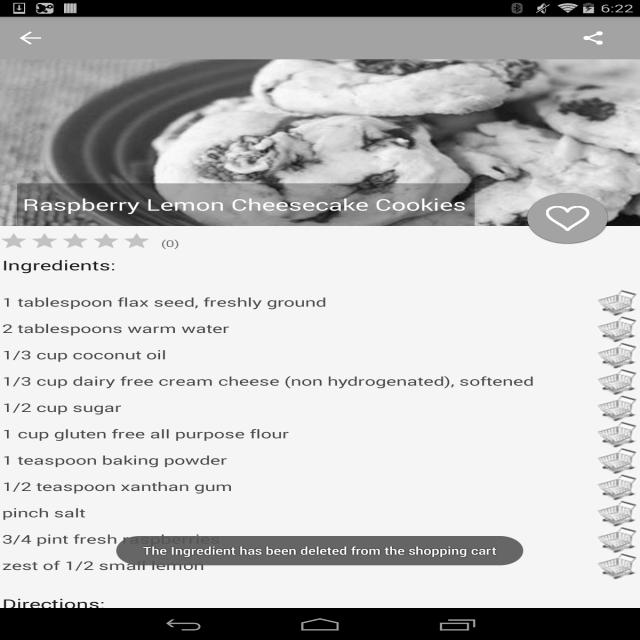CheckedTextView: (2, 289, 638, 316), (2, 342, 638, 369), (2, 368, 638, 395), (2, 421, 638, 448), (2, 447, 638, 474), (2, 500, 638, 527), (2, 526, 638, 553), (2, 316, 638, 342), (2, 395, 638, 421), (2, 474, 638, 500), (2, 553, 638, 579)
ImageButton: (525, 191, 610, 245)
ImageView: (0, 59, 640, 226), (580, 30, 606, 46), (18, 30, 43, 46)
RatingBar: (0, 231, 152, 251)
TextView: (17, 183, 475, 226), (2, 256, 116, 290), (2, 579, 105, 613), (161, 237, 179, 250)
